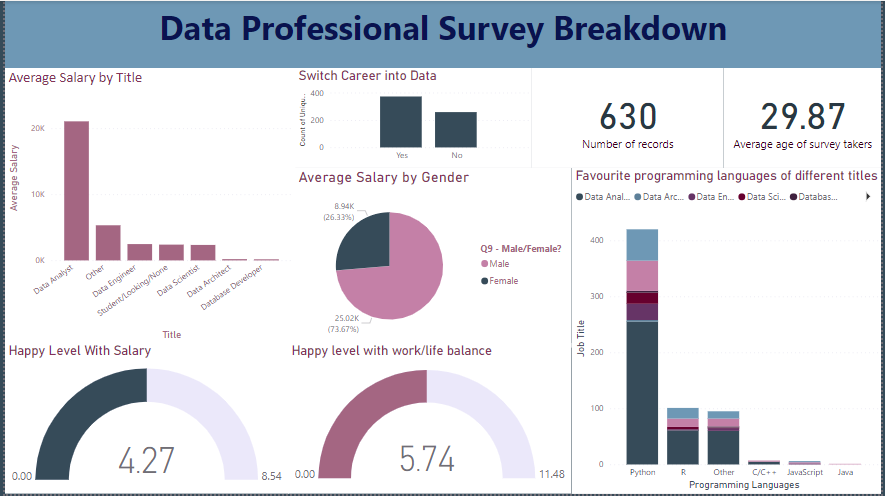

This screenshot's page, from the dashboard's own definition file:
{"tool":"powerbi","page":{"name":"Page 1","canvas":[1280,720],"ordinal":0},"visuals":[{"type":"textbox","box":[0,0,1280,98],"z":0},{"type":"card","fields":{"Values":["CountNonNull(Data Professional Survey.Unique ID)"]},"box":[770,98,280,146],"z":1},{"type":"card","fields":{"Values":["Avg(Data Professional Survey.Q10 - Current Age)"]},"box":[1050,98,230,146],"z":2},{"type":"clusteredColumnChart","fields":{"Category":["Data Professional Survey.Q1 - Which Title Best Fits your Current Role?.1"],"Y":["Sum(Data Professional Survey.Average Salary)"]},"box":[0,98,424,402],"z":3},{"type":"pieChart","title":"Average Salary by Gender","fields":{"Y":["Sum(Data Professional Survey.Average Salary)"],"Category":["Data Professional Survey.Q9 - Male/Female?"]},"box":[424,244,404,262],"z":4},{"type":"gauge","title":"Happy Level With Salary","fields":{"Y":["Avg(Data Professional Survey.Q6 - How Happy are you in your Current Position with the following? (Salary))"]},"box":[0,500,414,220],"z":5},{"type":"gauge","title":"Happy level with work/life balance","fields":{"Y":["Avg(Data Professional Survey.Q6 - How Happy are you in your Current Position with the following? (Work/Life Balance))"]},"box":[414,500,414,220],"z":6},{"type":"columnChart","title":"Favourite programming languages of different titles","fields":{"Category":["Data Professional Survey.Q5 - Favorite Programming Language.1"],"Series":["Data Professional Survey.Q1 - Which Title Best Fits your Current Role?.1"],"Y":["CountNonNull(Data Professional Survey.Q1 - Which Title Best Fits your Current Role?.1)"]},"box":[828,244,452,476],"z":7},{"type":"columnChart","title":"Switch Career into Data","fields":{"Category":["Data Professional Survey.Q2 - Did you switch careers into Data?"],"Y":["CountNonNull(Data Professional Survey.Unique ID)"]},"box":[424,98,346,146],"z":8}]}

Visuals, with their boxes in screenshot pixels (x1, y1, x2, y2), scaled from the page's 1280x720 canvas onto the 885x496 screenshot:
textbox: 0 0 884 68
card - CountNonNull(Data Professional Survey.Unique ID): 532 68 726 168
card - Avg(Data Professional Survey.Q10 - Current Age): 726 68 884 168
clusteredColumnChart - Data Professional Survey.Q1 - Which Title Best Fits your Current Role?.1 x Sum(Data Professional Survey.Average Salary): 0 68 293 344
"Average Salary by Gender" pieChart: 293 168 572 349
"Happy Level With Salary" gauge: 0 344 286 495
"Happy level with work/life balance" gauge: 286 344 572 495
"Favourite programming languages of different titles" columnChart: 572 168 884 495
"Switch Career into Data" columnChart: 293 68 532 168
